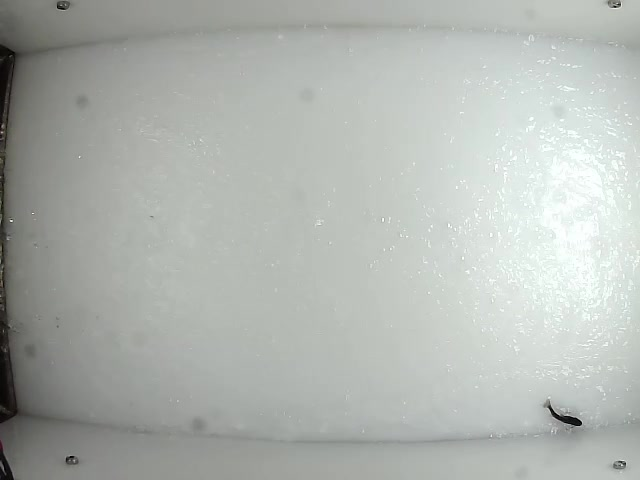fish: (540, 399, 584, 429)
